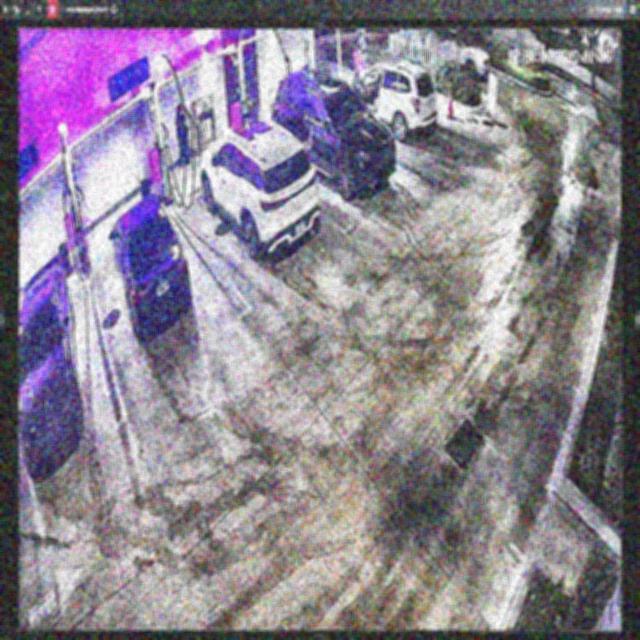Car: (200, 118, 319, 258), (273, 71, 394, 194), (109, 195, 192, 335)
